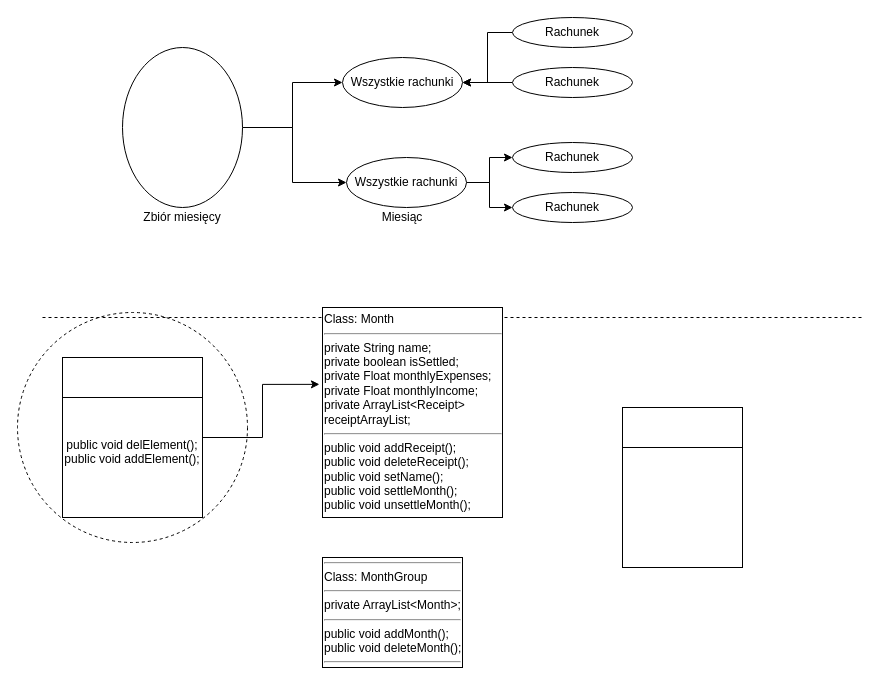
This 881x687 diagram has some shape labels left out. The shapes that lost their labels are listed below. From the top down, each one's centre as x and y in pixels, then its label:
point (182, 127): Wszystkie miesiące
point (132, 377): Class: Group
point (682, 427): Class: Receipt
